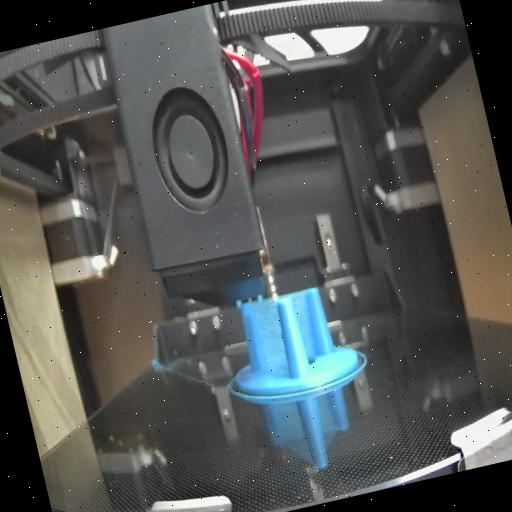stringing: (248, 296, 296, 386), (290, 291, 328, 372)
